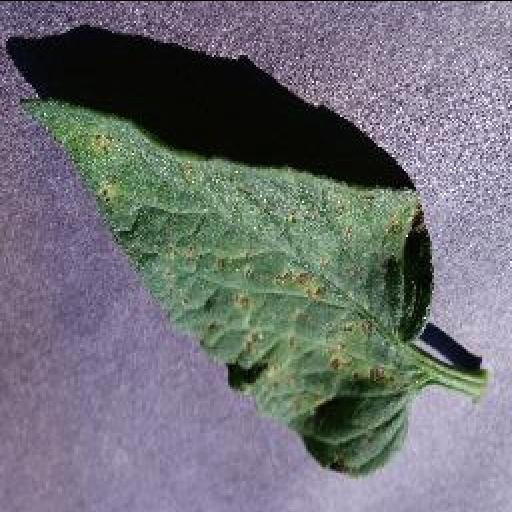disease_tomato: (18, 96, 432, 478)
